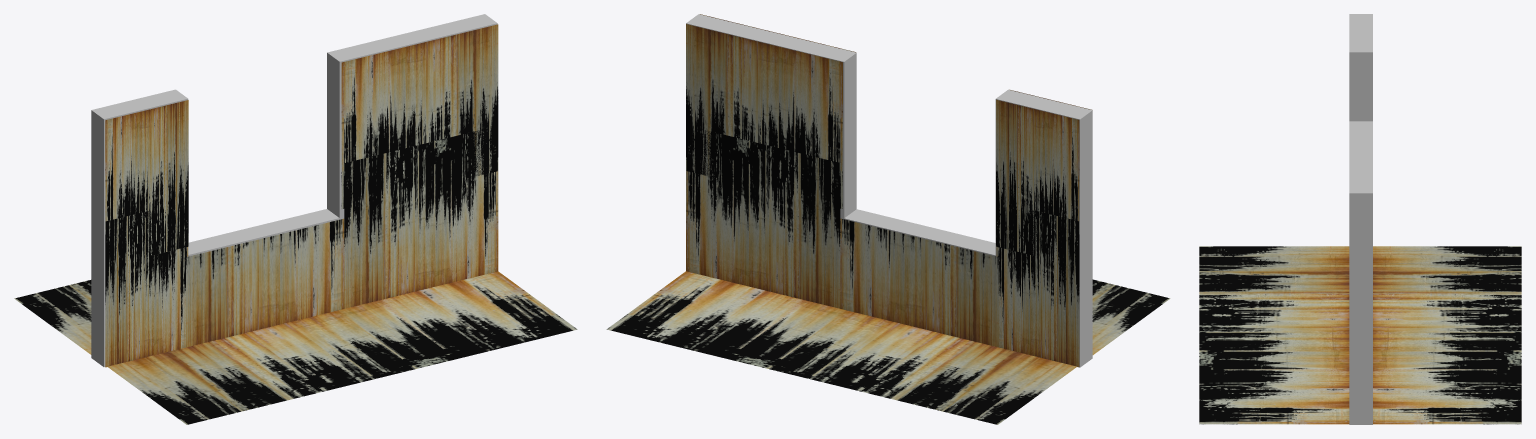
Rendered from TiledBrick10.FBX.
3 views of the same model, side by side, from view 1: azimuth 30°, elevation 25°; view 2: azimuth 150°, elevation 25°; view 3: azimuth 270°, elevation 25° (orthographic). The views are drawn at different scales.
Parts seen in each view (by area): view 1: TiledBrick10; view 2: TiledBrick10; view 3: TiledBrick10.
Part boxes in pixels (x1=…): TiledBrick10: x1=14, y1=14, x2=577, y2=424; TiledBrick10: x1=606, y1=14, x2=1170, y2=424; TiledBrick10: x1=1199, y1=14, x2=1521, y2=424.
Bounding box in the file's own units: 369 × 222 × 280.
